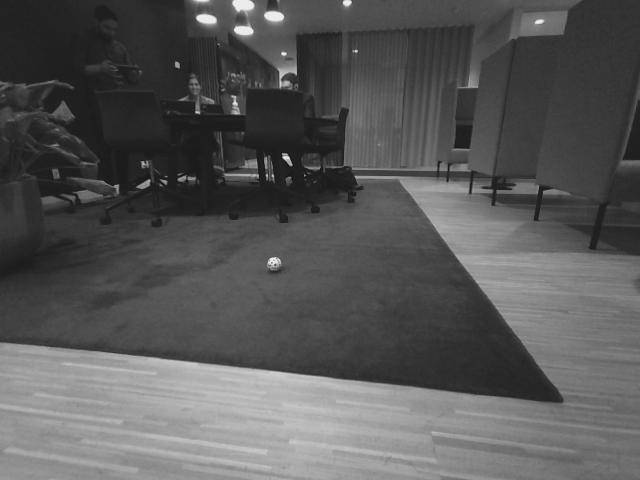dogtoy: (262, 249, 287, 277)
